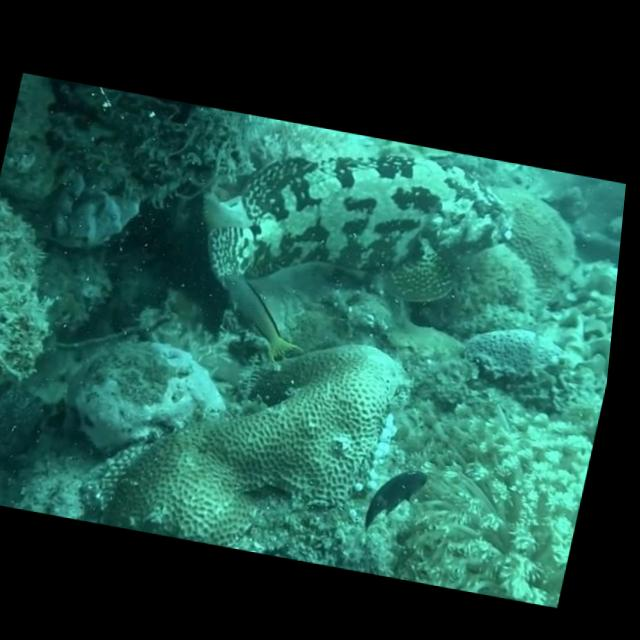Groupers: (192, 114, 529, 336)
